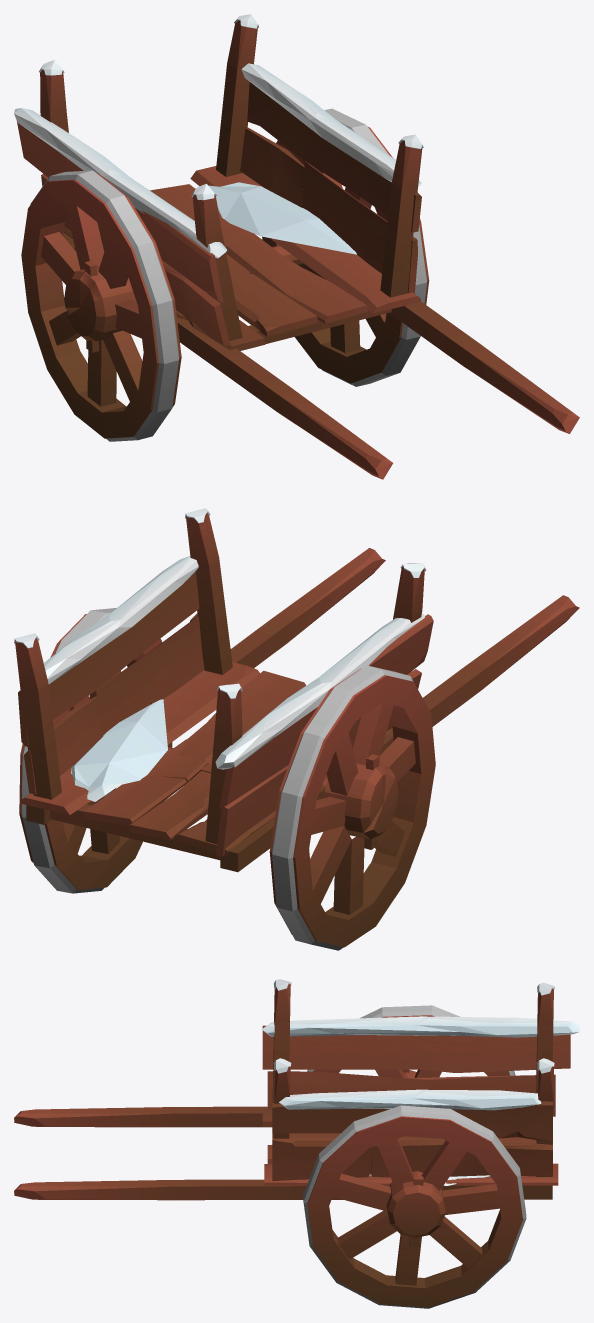
3 views of the same model, one above another, from view 1: azimuth 30°, elevation 25°; view 2: azimuth 150°, elevation 25°; view 3: azimuth 270°, elevation 25° (orthographic). The views are drawn at different scales.
Visible parts, largest first — view 1: SnowyCart; view 2: SnowyCart; view 3: SnowyCart.
Part boxes in pixels (bbox=[...]): SnowyCart: bbox=[14, 14, 579, 479]; SnowyCart: bbox=[14, 508, 579, 950]; SnowyCart: bbox=[14, 979, 579, 1308].
Bounding box in the file's own units: 87.8 × 84.55 × 180.
1 material, 1 textured.
